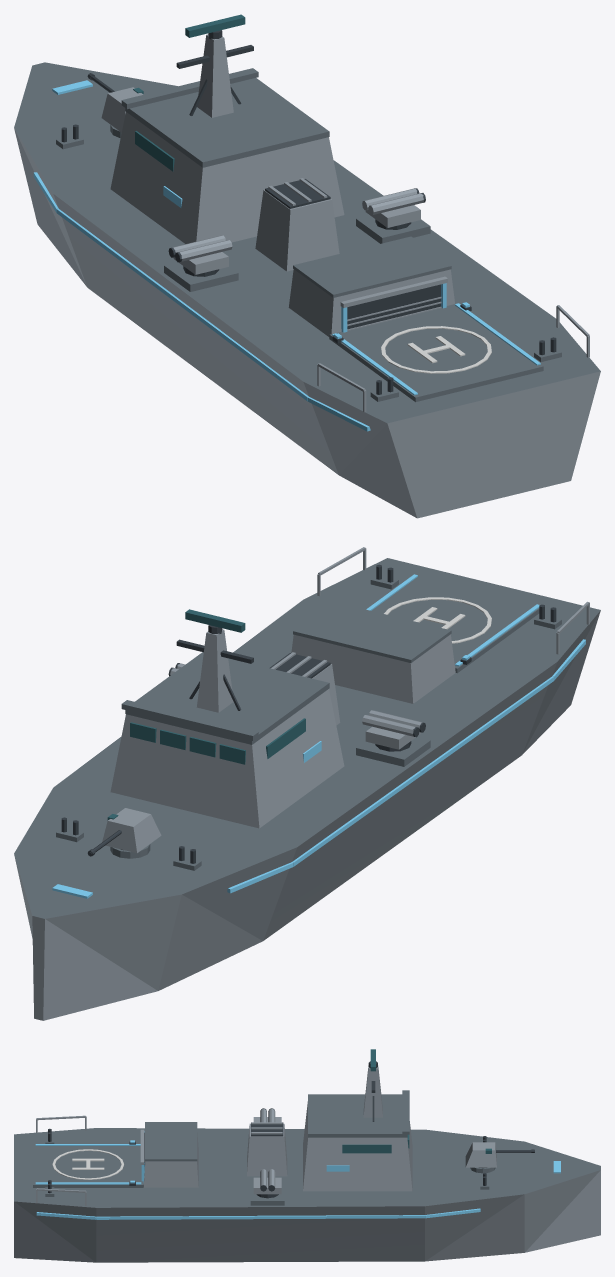
The model's file is ESC_ASW_T0.fbx.
3 views of the same model, one above another, from view 1: azimuth 30°, elevation 25°; view 2: azimuth 150°, elevation 25°; view 3: azimuth 270°, elevation 25° (orthographic). The views are drawn at different scales.
Parts seen in each view (by area): view 1: ContinuousHull.004, Deckhouse.004, HelicopterDeck, Roof.004, HangarRoof, FunnelEnclosure.004, AviationServiceHouse, NavMast, AftFacingHangarDoor, RoleHullStripe-1_1, BridgeBrow, TorpedoFoot_P (+8 smaller); view 2: ContinuousHull.004, Deckhouse.004, Roof.004, HelicopterDeck, AviationServiceHouse, HangarRoof, NavMast, PrimaryGunCupola.004, RoleHullStripe-1_1, BridgeBrow, TorpedoFoot_P, TorpedoCradle_P (+2 smaller); view 3: ContinuousHull.004, Deckhouse.004, HelicopterDeck, Roof.004, HangarRoof, FunnelEnclosure.004, AviationServiceHouse, RoleHullStripe1_1, NavMast, PrimaryGunCupola.004, BridgeSideGlass1, TorpedoFoot_S (+4 smaller).
Part boxes in pixels (left/top/right/bottom): ContinuousHull.004: left=14, top=62, right=600, bottom=518; Deckhouse.004: left=110, top=112, right=344, bottom=243; HelicopterDeck: left=329, top=304, right=543, bottom=402; Roof.004: left=125, top=78, right=329, bottom=167; HangarRoof: left=293, top=236, right=451, bottom=297; FunnelEnclosure.004: left=255, top=190, right=339, bottom=271; AviationServiceHouse: left=288, top=269, right=454, bottom=336; NavMast: left=197, top=34, right=233, bottom=117; AftFacingHangarDoor: left=347, top=284, right=440, bottom=329; RoleHullStripe-1_1: left=56, top=208, right=308, bottom=400; BridgeBrow: left=121, top=68, right=258, bottom=109; TorpedoFoot_P: left=164, top=262, right=238, bottom=291; ContinuousHull.004: left=14, top=558, right=600, bottom=1020; Deckhouse.004: left=110, top=689, right=344, bottom=828; Roof.004: left=125, top=652, right=329, bottom=744; HelicopterDeck: left=371, top=574, right=539, bottom=673; AviationServiceHouse: left=291, top=634, right=455, bottom=703; HangarRoof: left=293, top=601, right=451, bottom=662; NavMast: left=196, top=629, right=233, bottom=712; PrimaryGunCupola.004: left=102, top=808, right=161, bottom=853; RoleHullStripe-1_1: left=292, top=676, right=553, bottom=866; BridgeBrow: left=121, top=700, right=258, bottom=740; TorpedoFoot_P: left=356, top=737, right=430, bottom=766; TorpedoCradle_P: left=365, top=726, right=420, bottom=749; ContinuousHull.004: left=14, top=1128, right=600, bottom=1262; Deckhouse.004: left=303, top=1101, right=412, bottom=1191; HelicopterDeck: left=33, top=1145, right=143, bottom=1187; Roof.004: left=308, top=1094, right=407, bottom=1137; HangarRoof: left=145, top=1122, right=197, bottom=1161; FunnelEnclosure.004: left=247, top=1123, right=287, bottom=1176; AviationServiceHouse: left=143, top=1132, right=198, bottom=1187; RoleHullStripe1_1: left=96, top=1215, right=424, bottom=1219; NavMast: left=363, top=1065, right=382, bottom=1117; PrimaryGunCupola.004: left=465, top=1142, right=496, bottom=1167; BridgeSideGlass1: left=342, top=1144, right=391, bottom=1153; TorpedoFoot_S: left=250, top=1185, right=284, bottom=1205.
Size of the model in its own units: 290 by 310 by 900.
